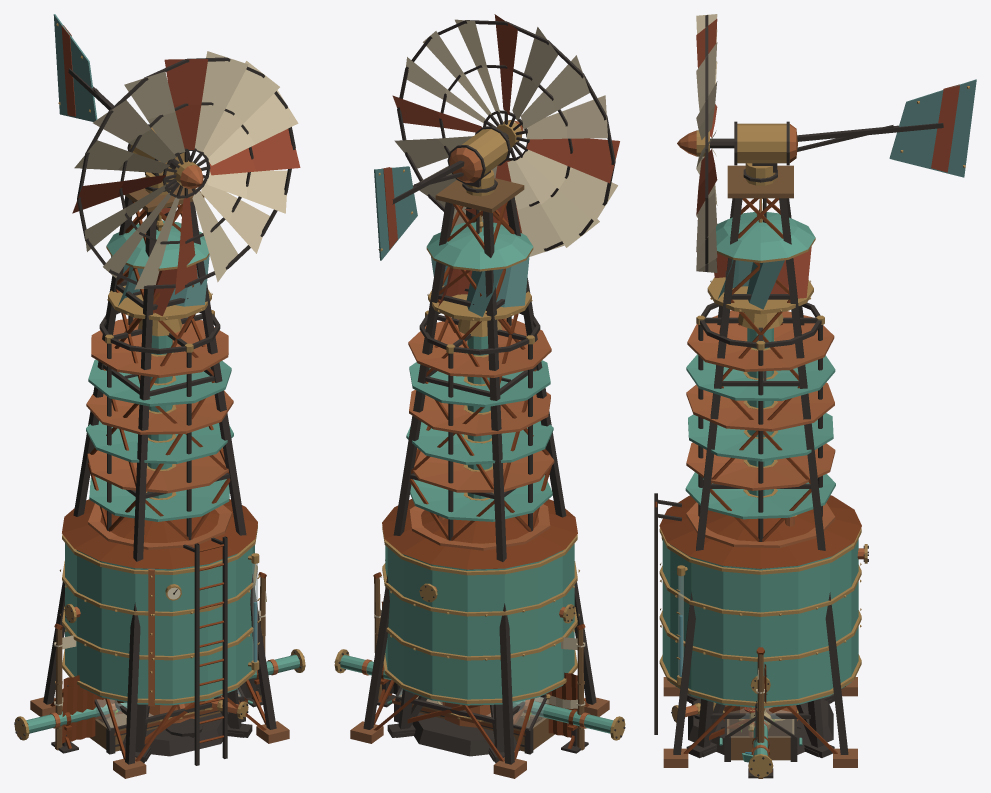
Rendered from exterior.glb.
3 views of the same model, side by side, from view 1: azimuth 30°, elevation 25°; view 2: azimuth 150°, elevation 25°; view 3: azimuth 270°, elevation 25° (orthographic). The views are drawn at different scales.
Parts seen in each view (by area): view 1: tank, windpump_rotor, condenser, windpump, condenser_rotor, fence, pipe_run, solar_still; view 2: tank, condenser, windpump, windpump_rotor, condenser_rotor, pipe_run, fence, solar_still; view 3: tank, condenser, windpump, condenser_rotor, windpump_rotor, solar_still, pipe_run, fence.
Part boxes in pixels (left/top/right/bottom): tank: left=59, top=499, right=260, bottom=765; windpump_rotor: left=72, top=51, right=300, bottom=294; condenser: left=86, top=310, right=252, bottom=763; windpump: left=30, top=14, right=289, bottom=778; condenser_rotor: left=106, top=208, right=212, bottom=320; fence: left=54, top=572, right=266, bottom=750; pipe_run: left=14, top=649, right=305, bottom=753; solar_still: left=89, top=687, right=252, bottom=754; tank: left=380, top=474, right=579, bottom=761; condenser: left=387, top=310, right=554, bottom=763; windpump: left=350, top=126, right=609, bottom=778; windpump_rotor: left=392, top=14, right=619, bottom=256; condenser_rotor: left=426, top=208, right=533, bottom=321; pipe_run: left=334, top=649, right=625, bottom=753; fence: left=373, top=572, right=585, bottom=750; solar_still: left=387, top=687, right=554, bottom=754; tank: left=654, top=493, right=868, bottom=757; condenser: left=685, top=302, right=835, bottom=762; windpump: left=663, top=79, right=976, bottom=767; condenser_rotor: left=707, top=198, right=815, bottom=314; windpump_rotor: left=677, top=14, right=717, bottom=272; solar_still: left=719, top=707, right=802, bottom=761; pipe_run: left=748, top=708, right=773, bottom=778; fence: left=754, top=647, right=767, bottom=778.
Bounding box in the file's own units: 4 × 9.34 × 3.88.
